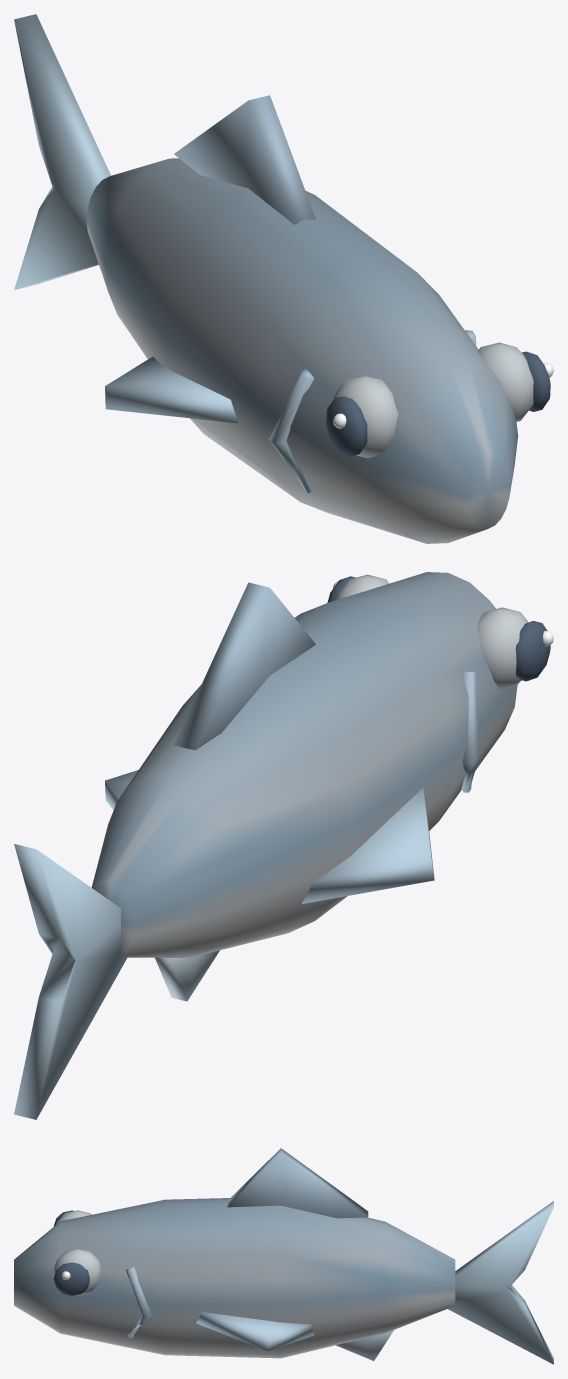
File: enemigo-sardina.glb
3 views of the same model, one above another, from view 1: azimuth 30°, elevation 25°; view 2: azimuth 150°, elevation 25°; view 3: azimuth 270°, elevation 25° (orthographic). The views are drawn at different scales.
Parts seen in each view (by area): view 1: Body, Tail; view 2: Body, Tail; view 3: Body, Tail.
Boxes of the visible parts, left/top/right/bottom form: Body: left=86, top=95, right=553, bottom=543; Tail: left=14, top=14, right=110, bottom=289; Body: left=91, top=572, right=553, bottom=1001; Tail: left=14, top=844, right=127, bottom=1119; Body: left=14, top=1148, right=455, bottom=1360; Tail: left=447, top=1201, right=553, bottom=1364.
Bounding box in the file's own units: 0.4102 × 0.4301 × 1.
